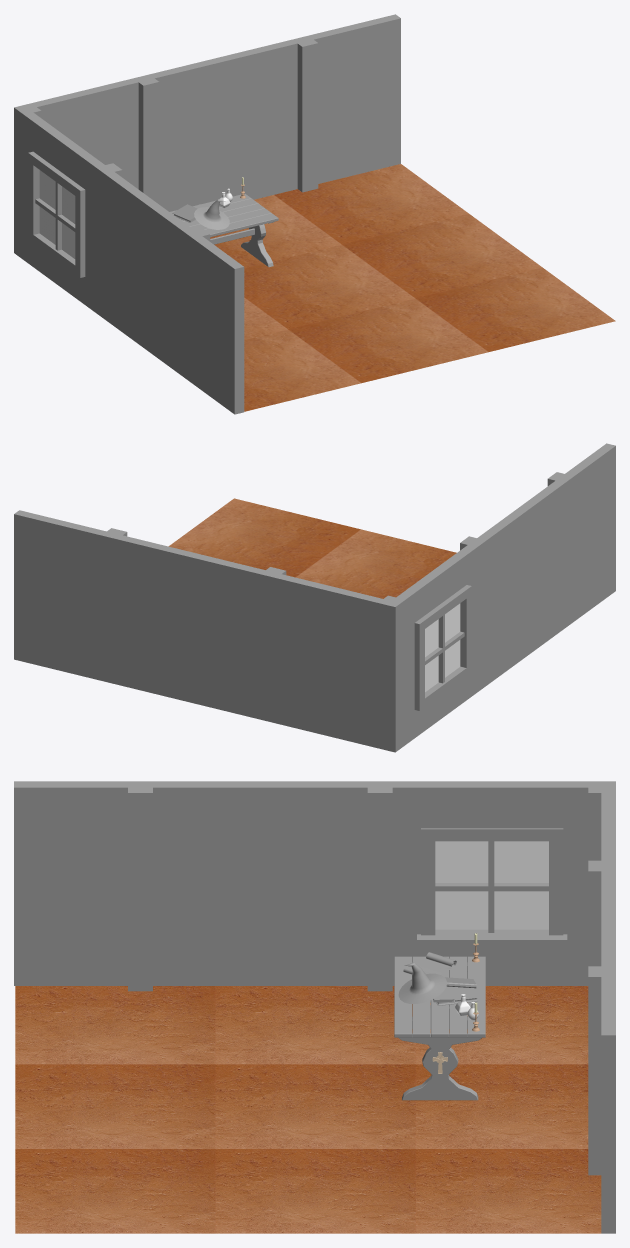
The model's file is SorcerersDesk.fbx.
The picture shows the model from 3 angles, top to bottom: view 1: azimuth 30°, elevation 25°; view 2: azimuth 150°, elevation 25°; view 3: azimuth 270°, elevation 25°; orthographic projection. The views are drawn at different scales.
Visible parts, largest first — view 1: Floor, Wall2, Wall1, Beam4, Frame, Beam3, WindowGlass, Divider, Hat, TableLeg1, TableTop4; view 2: Wall2, Wall1, Floor, Frame, WindowGlass, Divider; view 3: Floor, Wall1, WindowGlass, Wall2, Beam1, Beam, Frame, window_sillframe, Beam4, TableLeg1, Beam3, Divider (+8 smaller).
Boxes of the visible parts, bbox=[...] form: Floor: bbox=[210, 164, 615, 411]; Wall2: bbox=[14, 14, 400, 252]; Wall1: bbox=[14, 105, 244, 414]; Beam4: bbox=[293, 36, 318, 192]; Frame: bbox=[28, 151, 85, 277]; Beam3: bbox=[134, 75, 159, 204]; WindowGlass: bbox=[39, 170, 75, 258]; Divider: bbox=[35, 182, 75, 250]; Hat: bbox=[194, 199, 229, 229]; TableLeg1: bbox=[241, 221, 274, 267]; TableTop4: bbox=[204, 213, 278, 237]; Wall2: bbox=[14, 510, 400, 752]; Wall1: bbox=[387, 443, 615, 751]; Floor: bbox=[168, 498, 456, 598]; Frame: bbox=[414, 585, 471, 710]; WindowGlass: bbox=[425, 603, 460, 691]; Divider: bbox=[425, 614, 464, 683]; Floor: bbox=[15, 986, 601, 1233]; Wall1: bbox=[14, 781, 614, 985]; WindowGlass: bbox=[435, 841, 548, 929]; Wall2: bbox=[601, 781, 615, 1233]; Beam1: bbox=[367, 782, 392, 991]; Beam: bbox=[128, 782, 152, 991]; Frame: bbox=[421, 828, 563, 935]; window_sillframe: bbox=[417, 929, 567, 959]; Beam4: bbox=[588, 966, 613, 1175]; TableLeg1: bbox=[398, 1033, 481, 1100]; Beam3: bbox=[588, 860, 613, 966]; Divider: bbox=[435, 841, 548, 932].
Size of the model in its own units: 24.32 by 8.75 by 24.05.
Materials: 9 (1 with a texture image).
